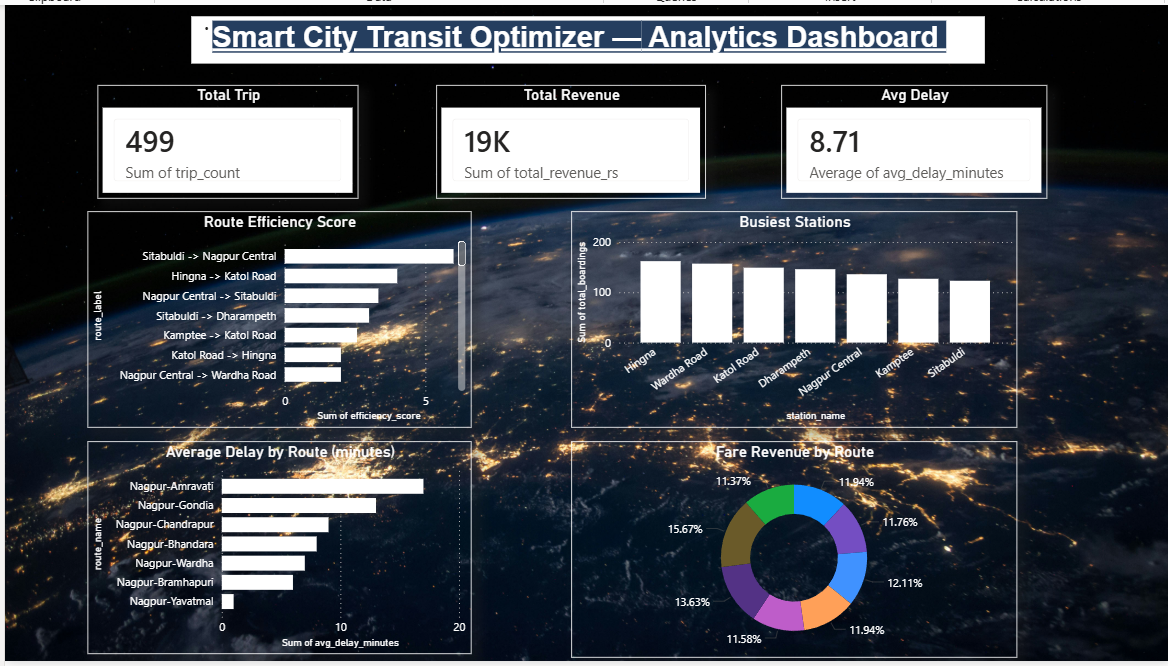

This screenshot's page, from the dashboard's own definition file:
{"tool":"powerbi","page":{"name":"Page 1","canvas":[1280,720],"ordinal":0},"visuals":[{"type":"cardVisual","title":"Total Trip","fields":{"Data":["Sum(analytics_output.trip_count)"]},"box":[101.5,87.8,286.8,124.9],"z":0},{"type":"cardVisual","title":"Total Revenue","fields":{"Data":["Sum(analytics_output.total_revenue_rs)"]},"box":[473.4,87.8,296.4,124.9],"z":1000},{"type":"cardVisual","title":"Avg Delay","fields":{"Data":["Avg(delay_summary.avg_delay_minutes)"]},"box":[852.1,87.8,292.3,124.9],"z":2000},{"type":"clusteredBarChart","title":"Route Efficiency Score","fields":{"Category":["analytics_output.route_label"],"Y":["Sum(analytics_output.efficiency_score)"]},"box":[90.6,226.4,421.3,237.4],"z":3000},{"type":"clusteredColumnChart","title":"Busiest Stations","fields":{"Category":["station_footfall.station_name"],"Y":["Sum(station_footfall.total_boardings)"]},"box":[621.6,226.4,489.9,237.4],"z":4000},{"type":"clusteredBarChart","title":"Average Delay by Route (minutes)","fields":{"Category":["delay_summary.route_name"],"Y":["Sum(delay_summary.avg_delay_minutes)"]},"box":[90.6,478.9,421.3,233.3],"z":5000},{"type":"donutChart","title":"Fare Revenue by Route","fields":{"Category":["analytics_output.route_label"],"Y":["select","Sum(analytics_output.revenue_pct)"]},"box":[621.6,478.9,489.9,237.4],"z":7000},{"type":"textbox","box":[204.5,12.3,871.4,52.1],"z":7001}]}

Visuals, with their boxes on the page's 1280x720 design canvas (x1, y1, x2, y2). These are canvas units, not pixel positions in the 1168x666 screenshot, which may show the page scaled, cropped or inside an application window:
"Total Trip" cardVisual: rect(102, 88, 388, 213)
"Total Revenue" cardVisual: rect(473, 88, 770, 213)
"Avg Delay" cardVisual: rect(852, 88, 1144, 213)
"Route Efficiency Score" clusteredBarChart: rect(91, 226, 512, 464)
"Busiest Stations" clusteredColumnChart: rect(622, 226, 1112, 464)
"Average Delay by Route (minutes)" clusteredBarChart: rect(91, 479, 512, 712)
"Fare Revenue by Route" donutChart: rect(622, 479, 1112, 716)
textbox: rect(204, 12, 1076, 64)
